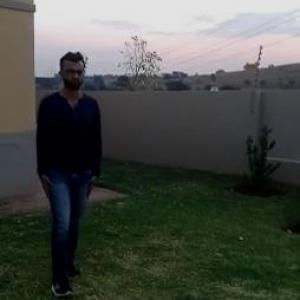follow: (32, 53, 101, 256)
